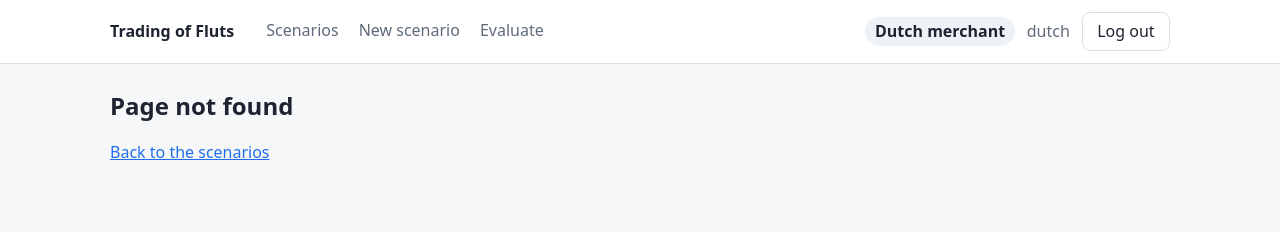
App › shows a not-found page for unknown paths
Expected: the heading "Page not found" is shown, [110,89,293,122]
What coordinates should you click on to do the following:
click the link "Back to the scenarios"
I would click on:
 (190, 152)
Its box is [110,141,270,163].
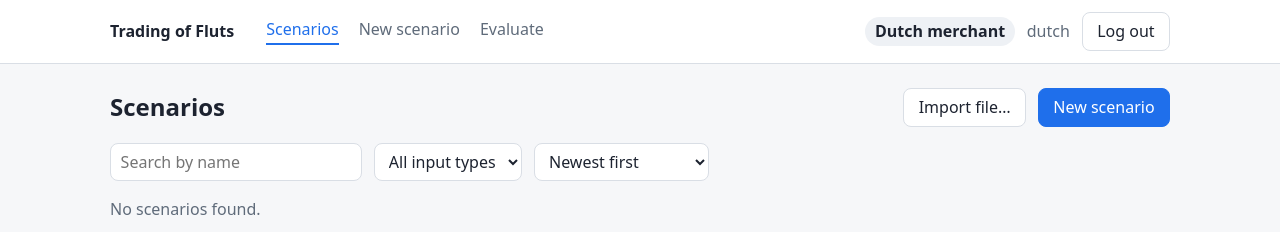
Expected: the heading "Scenarios" is shown, [110,89,225,125]
